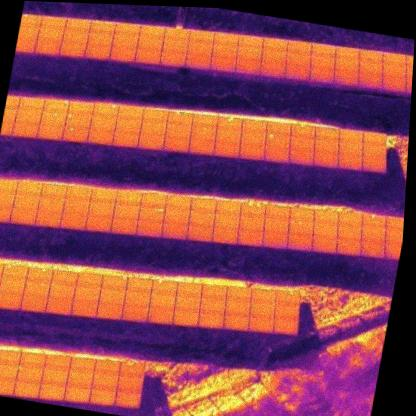Diode: (118, 359, 146, 379)
Hotspot: (99, 272, 128, 292), (211, 225, 239, 245), (15, 364, 43, 384), (91, 101, 119, 120), (62, 125, 90, 144), (200, 282, 228, 301), (26, 266, 54, 285), (286, 232, 313, 251), (41, 97, 69, 115), (189, 124, 217, 142), (65, 112, 93, 130), (39, 111, 67, 129), (137, 205, 165, 223), (150, 278, 178, 296), (1, 264, 29, 282), (198, 296, 226, 314), (22, 281, 50, 299), (264, 133, 291, 151), (239, 202, 266, 220), (288, 219, 315, 237), (175, 281, 202, 299), (290, 123, 316, 141), (361, 211, 387, 229), (89, 18, 116, 35), (241, 117, 267, 134), (167, 110, 193, 127), (274, 290, 300, 307), (216, 115, 241, 132), (236, 46, 261, 63), (19, 11, 42, 29), (0, 260, 4, 278)
Normal: (236, 228, 265, 248), (70, 298, 99, 318), (60, 211, 88, 231), (76, 270, 104, 290), (50, 267, 78, 287), (146, 305, 174, 325), (96, 301, 124, 321), (68, 355, 96, 375), (91, 373, 119, 393), (66, 370, 94, 390), (41, 368, 69, 388), (64, 15, 92, 35), (160, 221, 189, 240), (261, 231, 288, 251), (140, 107, 168, 126), (117, 104, 145, 123), (66, 99, 94, 118), (17, 94, 45, 113), (187, 137, 215, 156), (163, 135, 191, 154), (137, 133, 165, 152), (37, 123, 65, 142), (11, 121, 39, 140), (135, 219, 163, 238), (224, 299, 252, 318), (212, 29, 240, 48), (272, 316, 300, 335), (47, 283, 75, 302), (187, 28, 215, 47), (45, 296, 73, 315), (20, 294, 48, 313), (94, 357, 122, 376), (43, 353, 71, 372), (18, 350, 46, 369), (114, 390, 142, 409), (89, 387, 117, 406), (63, 385, 91, 404), (13, 381, 41, 400), (83, 42, 111, 61), (360, 238, 386, 258), (312, 150, 339, 169), (288, 148, 315, 167), (238, 144, 265, 163), (213, 140, 240, 159), (214, 199, 241, 218), (247, 314, 274, 333), (0, 278, 27, 297), (117, 375, 144, 394), (259, 60, 286, 79), (139, 120, 167, 138), (89, 115, 117, 133), (112, 130, 140, 148), (87, 129, 115, 147), (288, 205, 316, 223), (189, 197, 217, 215), (40, 182, 68, 200), (187, 210, 215, 228), (162, 207, 190, 225), (112, 203, 140, 221), (87, 201, 115, 219), (186, 223, 214, 241), (110, 217, 138, 235), (84, 215, 112, 233), (35, 209, 63, 227), (334, 44, 362, 62), (125, 276, 153, 294), (273, 302, 301, 320), (173, 295, 201, 313), (123, 289, 151, 307), (97, 288, 125, 306), (72, 286, 100, 304), (222, 313, 250, 331), (196, 310, 224, 328), (172, 309, 200, 327), (121, 303, 149, 321), (114, 20, 142, 38), (38, 383, 66, 401), (185, 41, 213, 59), (86, 30, 114, 48), (283, 64, 311, 82), (60, 28, 88, 46), (37, 25, 65, 43), (209, 57, 237, 75), (159, 50, 187, 68), (133, 48, 161, 66), (108, 45, 136, 63), (58, 40, 86, 58), (33, 38, 61, 56), (338, 126, 364, 145), (337, 210, 363, 229), (312, 222, 338, 241), (335, 237, 361, 256), (115, 189, 142, 207), (263, 217, 290, 235), (311, 237, 338, 255), (13, 192, 40, 210), (10, 206, 37, 224), (310, 42, 337, 60), (285, 39, 312, 57), (225, 285, 252, 303), (249, 301, 276, 319), (163, 26, 190, 44), (357, 60, 384, 78), (261, 48, 288, 66), (39, 13, 66, 31), (234, 59, 261, 77), (210, 44, 238, 61), (338, 140, 364, 158), (337, 154, 363, 172), (263, 146, 289, 164), (313, 208, 339, 226), (264, 205, 290, 223), (337, 223, 363, 241), (381, 76, 407, 94), (309, 66, 335, 84), (15, 108, 42, 125), (165, 194, 192, 211), (90, 187, 117, 204), (62, 198, 89, 215), (38, 196, 65, 213), (149, 292, 176, 309), (139, 23, 166, 40), (161, 38, 188, 55), (136, 36, 163, 53), (357, 72, 384, 89), (112, 33, 139, 50), (184, 54, 211, 71), (362, 130, 387, 148), (361, 143, 386, 161), (314, 138, 339, 156), (362, 156, 387, 174), (361, 225, 386, 243), (290, 136, 316, 153), (240, 131, 266, 148), (215, 127, 241, 144), (165, 123, 191, 140), (238, 215, 264, 232), (358, 48, 384, 65), (262, 36, 288, 53), (238, 32, 264, 49), (250, 287, 276, 304), (333, 57, 359, 74), (191, 113, 218, 129), (114, 119, 141, 135), (66, 185, 93, 201), (15, 180, 42, 196), (314, 125, 339, 142), (382, 62, 407, 79), (309, 55, 334, 72), (0, 292, 22, 311), (141, 192, 167, 208), (213, 213, 239, 229), (285, 52, 311, 68), (266, 121, 291, 137), (333, 70, 358, 86), (0, 347, 21, 366), (383, 51, 407, 67), (0, 362, 19, 382), (0, 377, 16, 397), (0, 179, 17, 195), (0, 191, 15, 208), (0, 204, 12, 222), (405, 54, 414, 70), (405, 66, 413, 82), (405, 78, 412, 95), (0, 274, 2, 293)
